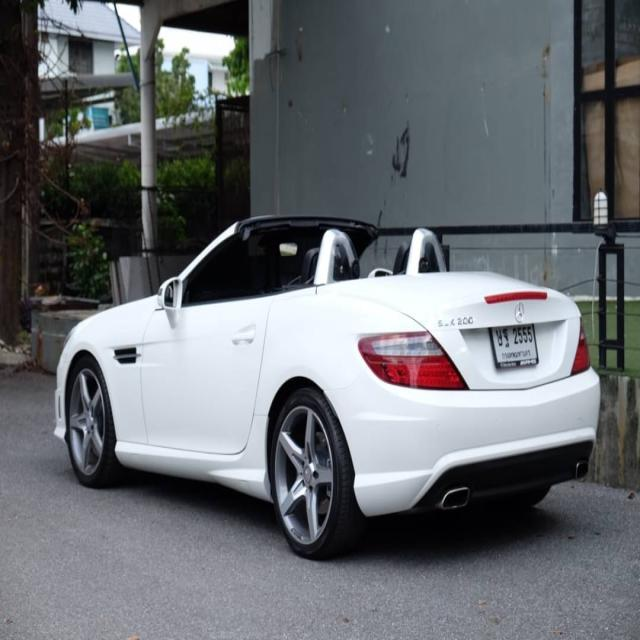license_plate: (484, 312, 546, 373)
